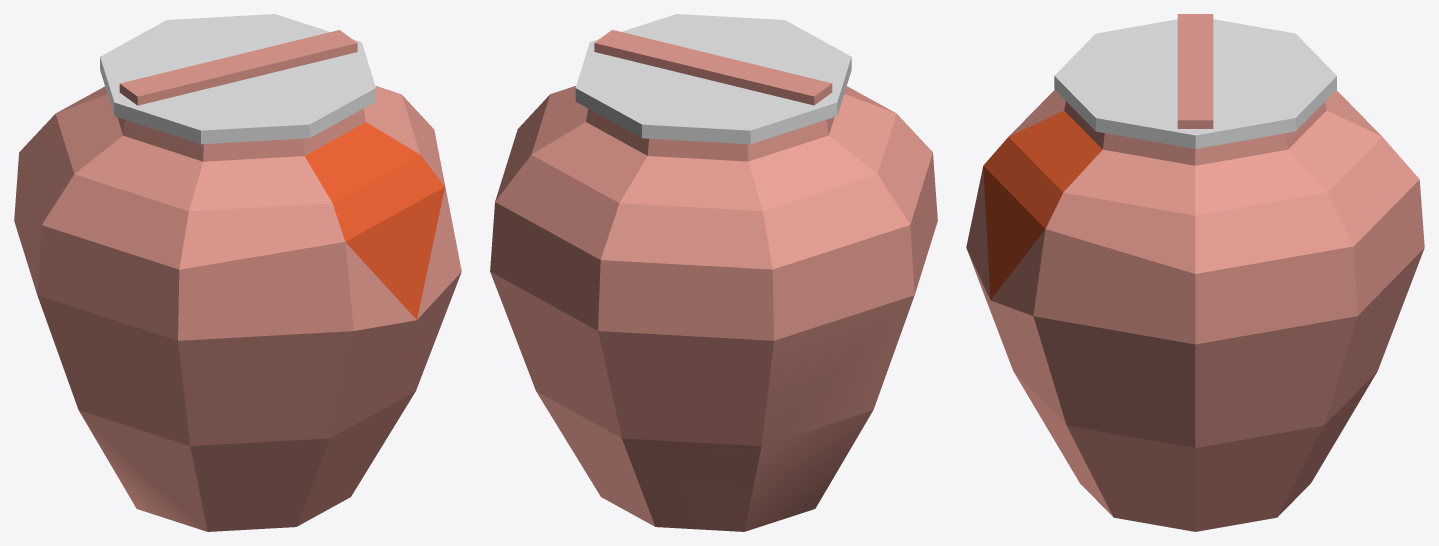
File: Vase_2 Asia.fbx
The picture shows the model from 3 angles, left to right: view 1: azimuth 30°, elevation 25°; view 2: azimuth 150°, elevation 25°; view 3: azimuth 270°, elevation 25°; orthographic projection.
Parts seen in each view (by area): view 1: Vase_2; view 2: Vase_2; view 3: Vase_2.
Boxes of the visible parts, left/top/right/bottom form: Vase_2: left=14, top=14, right=461, bottom=531; Vase_2: left=490, top=14, right=937, bottom=531; Vase_2: left=966, top=14, right=1424, bottom=531.
Bounding box in the file's own units: 0.5178 × 0.5187 × 0.5178.
